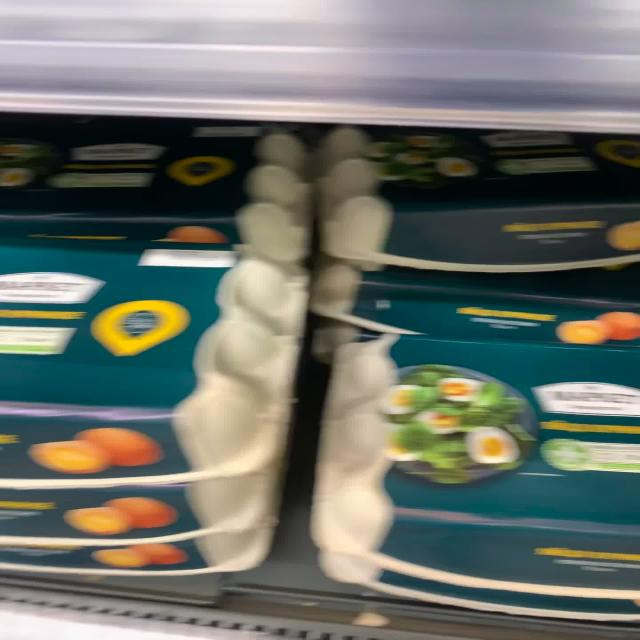egg box: (309, 330, 638, 598), (316, 131, 638, 274)
